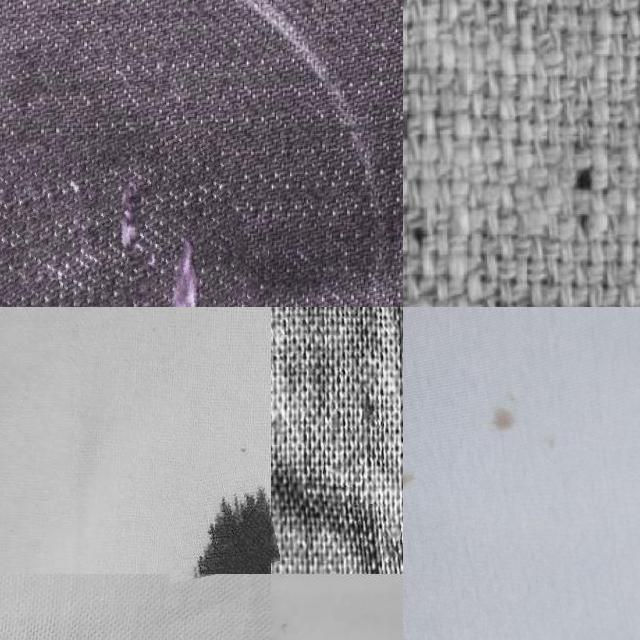Hole: (464, 364, 622, 515), (154, 461, 276, 579), (403, 413, 446, 553)
Thread_other: (0, 133, 260, 307)
